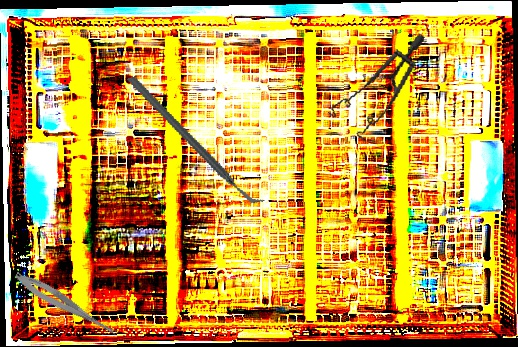Chopper: (126, 48, 265, 232)
Micro Scissor: (11, 268, 124, 341)
Speculum: (323, 16, 426, 151)
